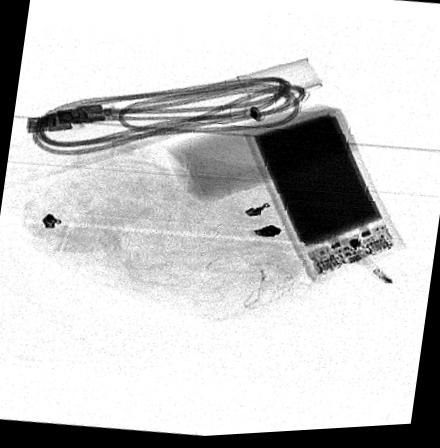Powerbank: (242, 109, 406, 286)
